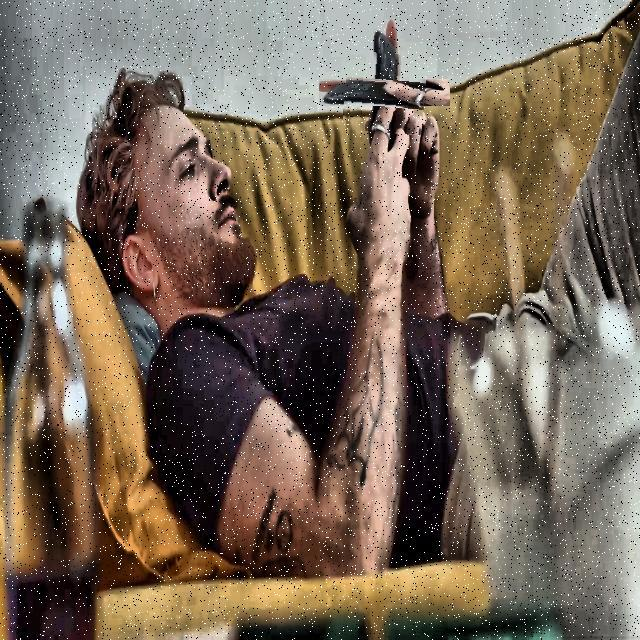Phone: (344, 52, 426, 134)
